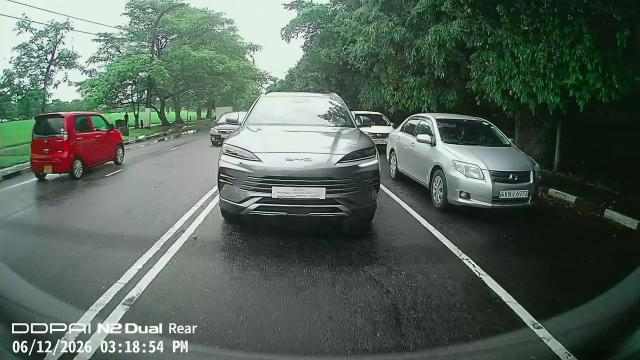number plate: (491, 187, 534, 207)
